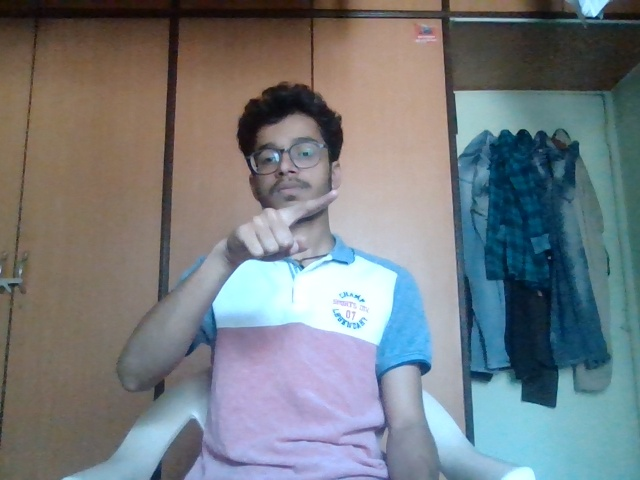you: (225, 191, 375, 270)
